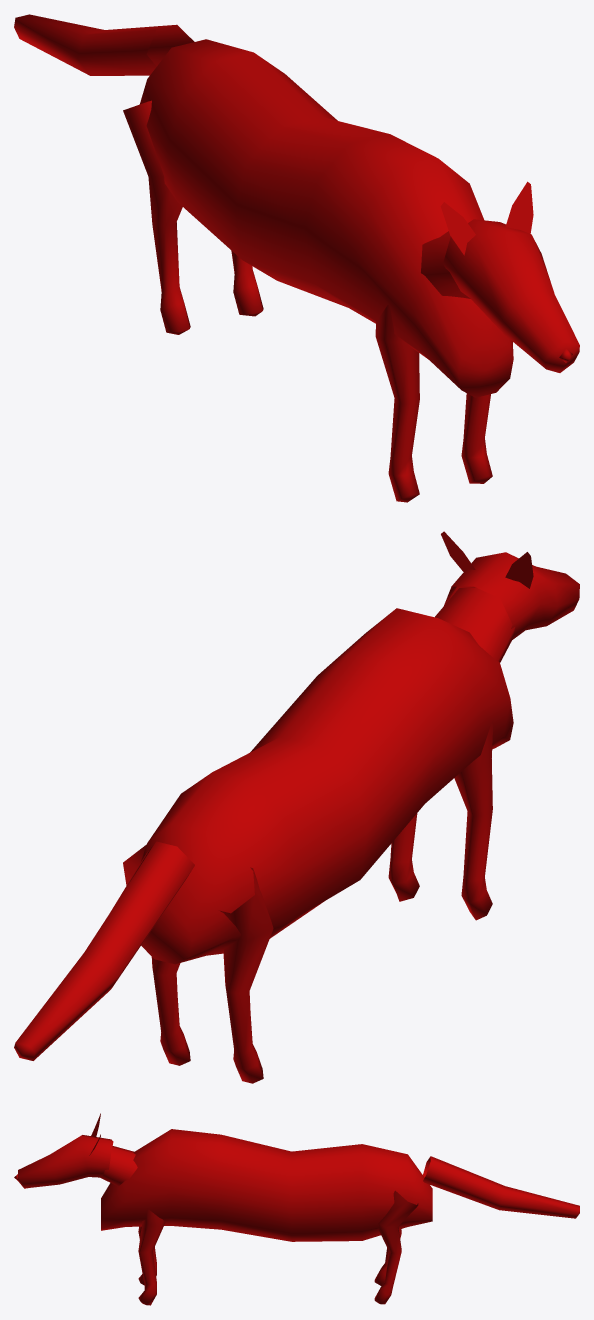
File: arcticfox.glb
The picture shows the model from 3 angles, top to bottom: view 1: azimuth 30°, elevation 25°; view 2: azimuth 150°, elevation 25°; view 3: azimuth 270°, elevation 25°; orthographic projection. The views are drawn at different scales.
Parts seen in each view (by area): view 1: body, head, tail, leg_lh, leg_lf, leg_rf, leg_rh; view 2: body, tail, head, leg_lh, leg_lf, leg_rh, leg_rf; view 3: body, head, tail, leg_rh, leg_rf.
Part boxes in pixels (left/top/right/bottom): body: left=139, top=39, right=513, bottom=397; head: left=421, top=181, right=579, bottom=372; tail: left=14, top=14, right=194, bottom=75; leg_lh: left=123, top=100, right=190, bottom=334; leg_lf: left=375, top=304, right=419, bottom=502; leg_rf: left=461, top=393, right=492, bottom=483; leg_rh: left=231, top=250, right=263, bottom=316; body: left=140, top=608, right=513, bottom=964; tail: left=14, top=841, right=194, bottom=1060; head: left=435, top=531, right=579, bottom=662; leg_lh: left=219, top=867, right=273, bottom=1083; leg_lf: left=454, top=720, right=493, bottom=920; leg_rh: left=123, top=844, right=190, bottom=1065; leg_rf: left=388, top=813, right=419, bottom=901; body: left=101, top=1129, right=432, bottom=1241; head: left=14, top=1113, right=137, bottom=1188; tail: left=423, top=1156, right=579, bottom=1218; leg_rh: left=374, top=1190, right=418, bottom=1304; leg_rf: left=138, top=1208, right=165, bottom=1305.
Bounding box in the file's own units: 0.1484 × 0.3594 × 1.07.
